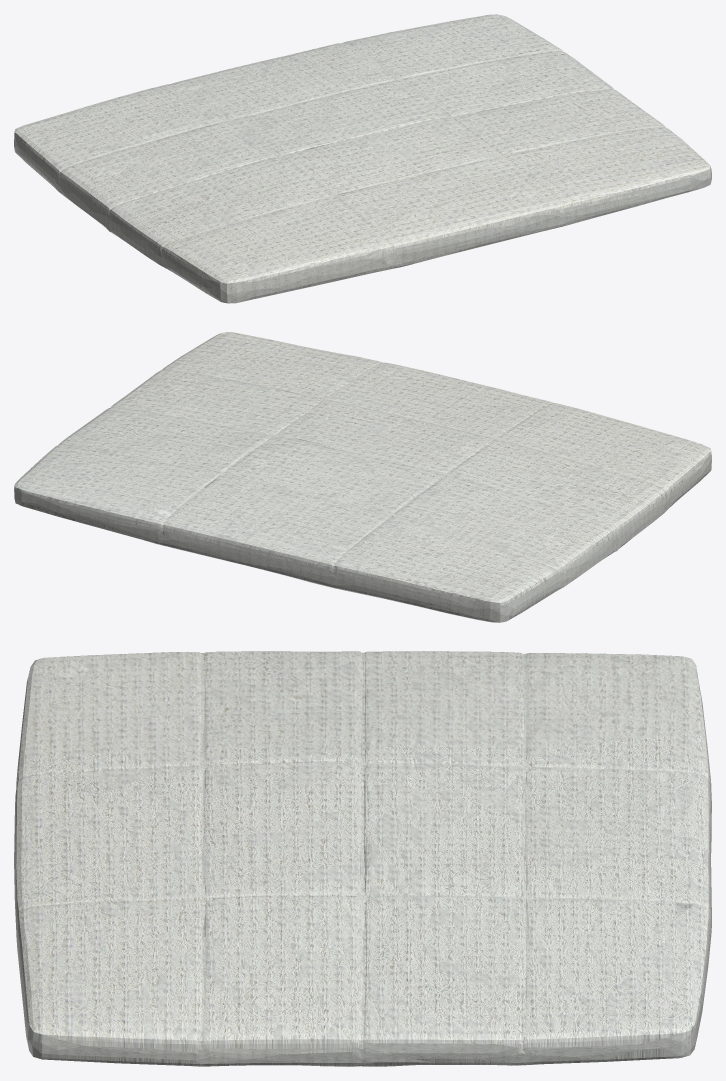
File: Mattress.FBX
3 views of the same model, one above another, from view 1: azimuth 30°, elevation 25°; view 2: azimuth 150°, elevation 25°; view 3: azimuth 270°, elevation 25° (orthographic). The views are drawn at different scales.
Parts seen in each view (by area): view 1: mattress; view 2: mattress; view 3: mattress.
Part boxes in pixels (x1=…): mattress: x1=14, y1=14, x2=711, y2=303; mattress: x1=14, y1=332, x2=711, y2=622; mattress: x1=14, y1=651, x2=711, y2=1066.
Bounding box in the file's own units: 252 × 192 × 17.52.
Materials: 1 (1 with a texture image).
